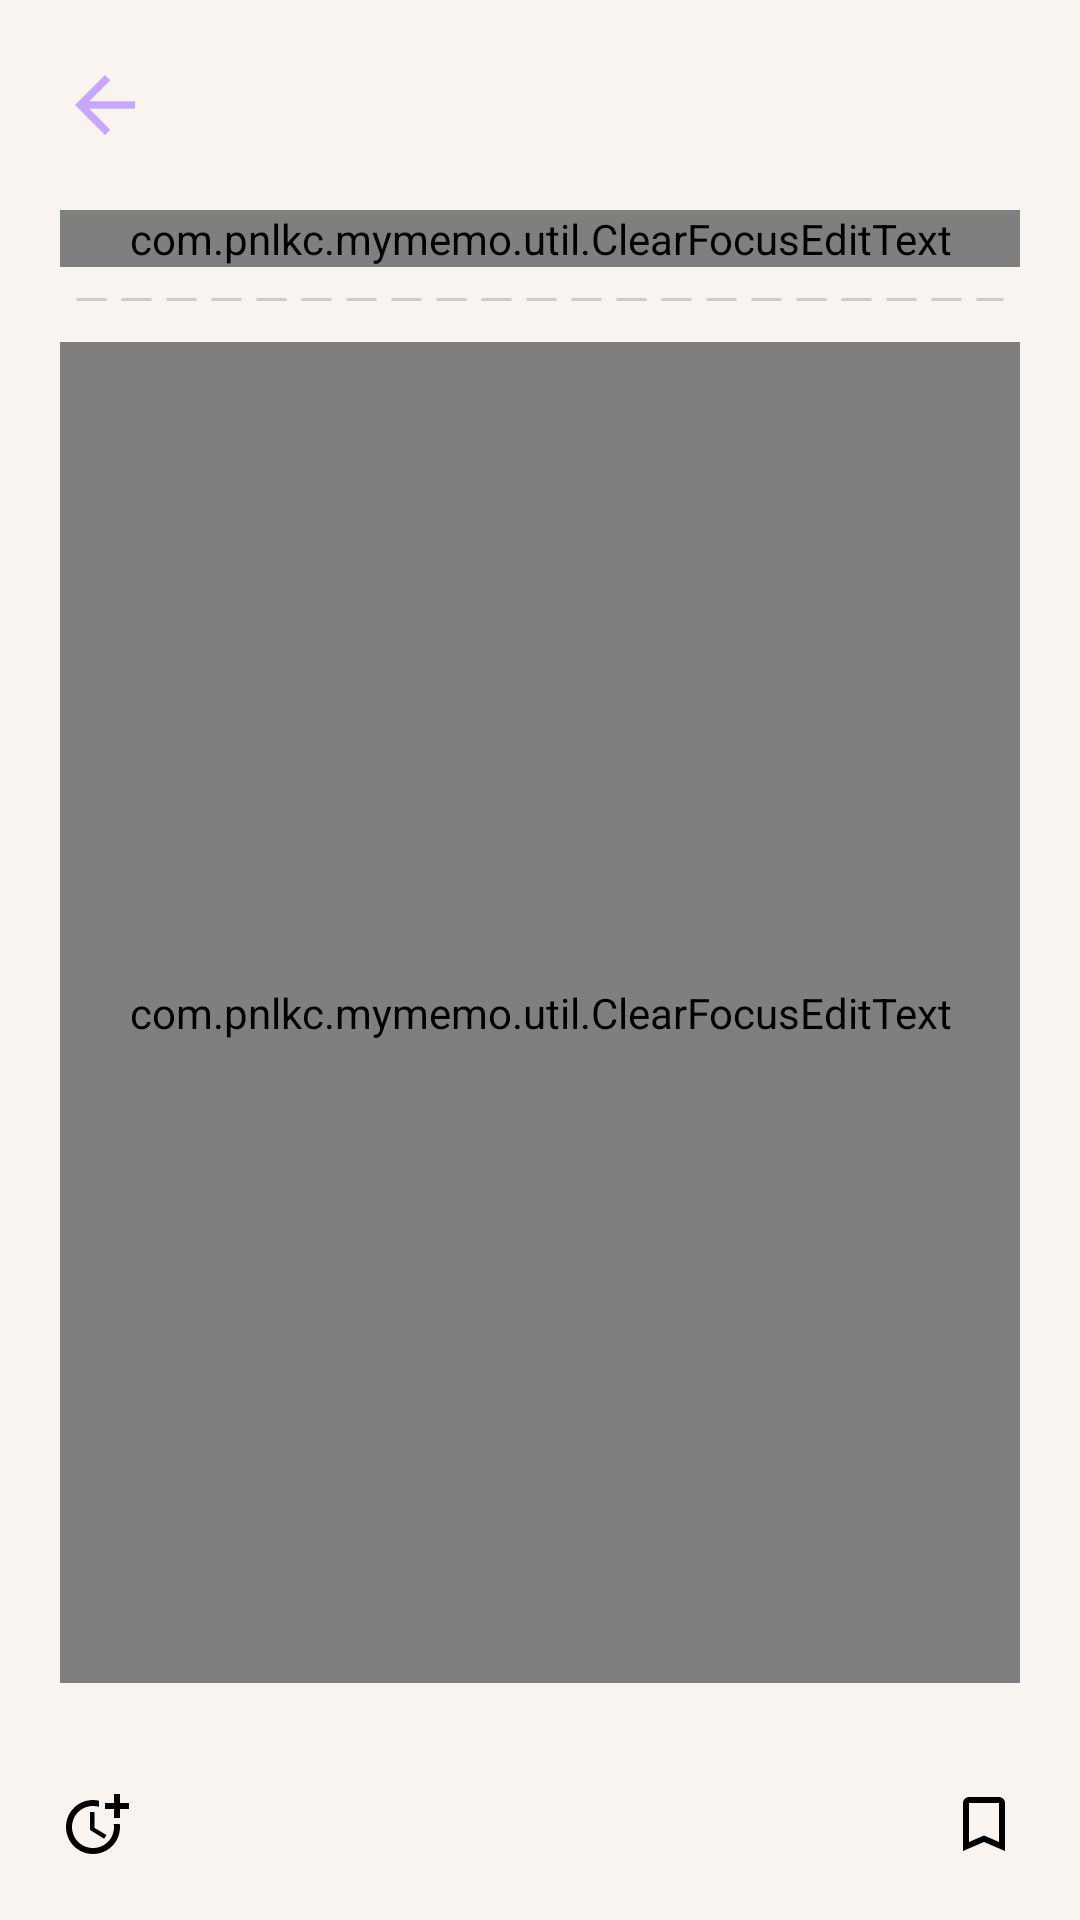

Where icons sit on this 1080*1920 app screen, as (x1, y1, x2, y2):
add time: (66, 1794, 129, 1854)
back: (75, 75, 135, 135)
